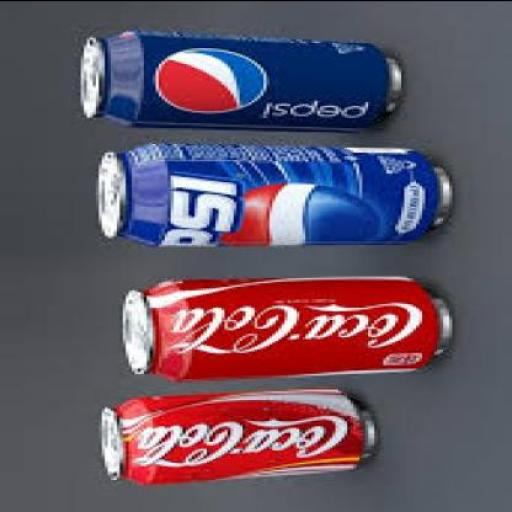metal: (90, 143, 452, 247), (117, 277, 452, 381), (75, 32, 401, 130), (96, 388, 372, 486)
